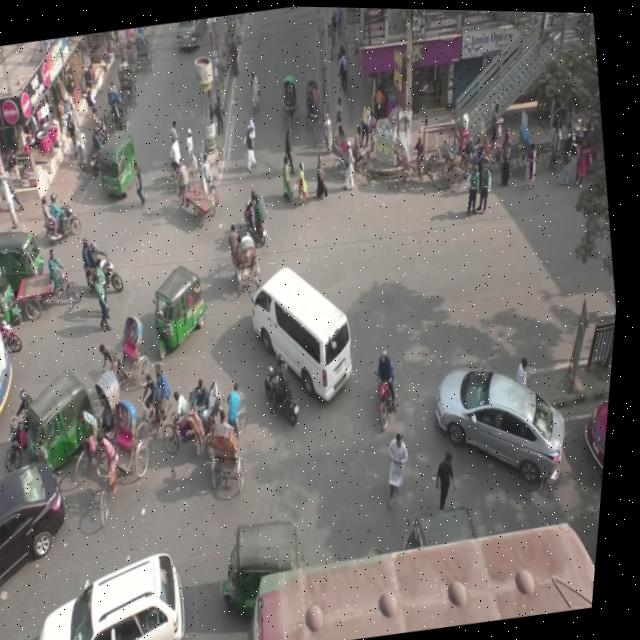cng: (216, 497, 327, 611), (20, 348, 114, 466), (142, 262, 224, 356), (90, 119, 152, 217), (0, 216, 68, 294)
rikshaw: (82, 402, 170, 528), (202, 378, 285, 510), (63, 368, 145, 496), (159, 374, 232, 467), (102, 293, 169, 389), (381, 117, 449, 208), (296, 64, 345, 149), (436, 125, 496, 186), (277, 66, 306, 147), (125, 25, 160, 89), (109, 50, 146, 109)
